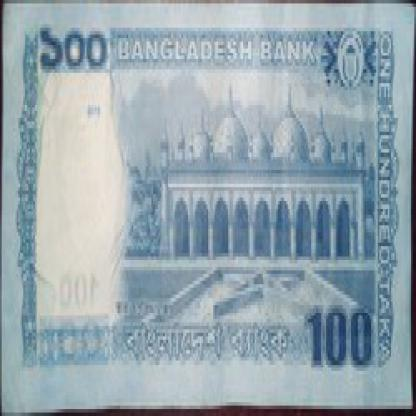one hundred taka: (304, 298, 382, 375), (35, 10, 111, 80)
